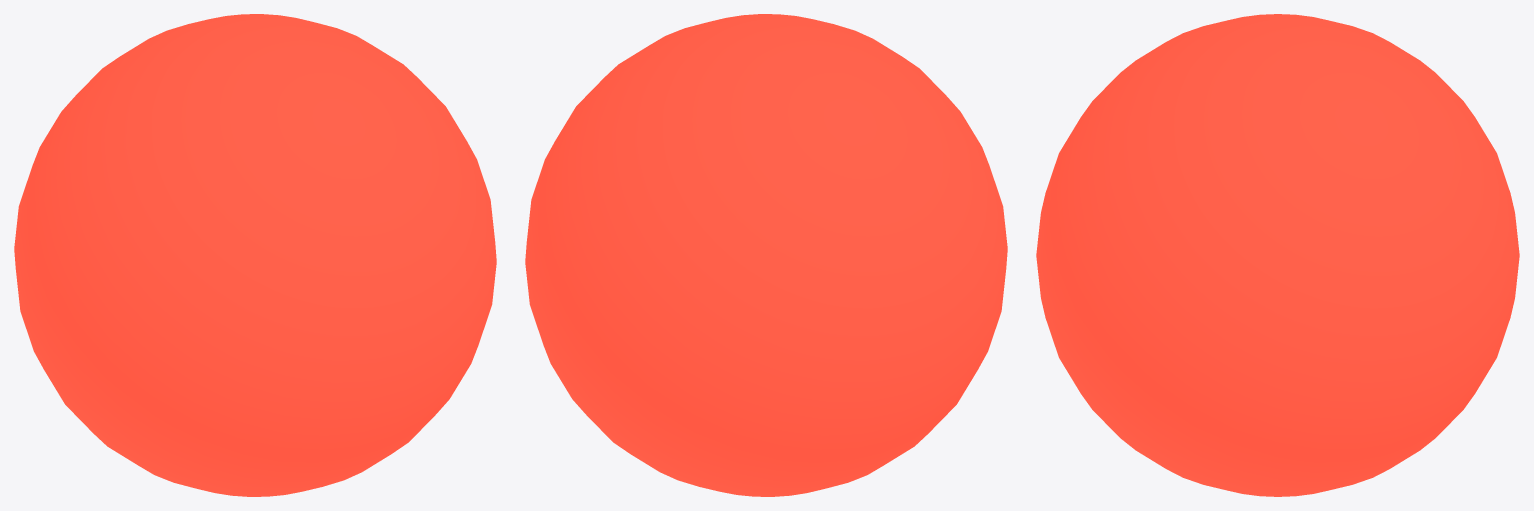
File: emissoes-de-co2.glb
The picture shows the model from 3 angles, left to right: view 1: azimuth 30°, elevation 25°; view 2: azimuth 150°, elevation 25°; view 3: azimuth 270°, elevation 25°; orthographic projection.
Visible parts, largest first — view 1: Sphere.020; view 2: Sphere.020; view 3: Sphere.020.
Part boxes in pixels (x1,y1,x2,y2): Sphere.020: (14, 14, 496, 496); Sphere.020: (525, 14, 1007, 496); Sphere.020: (1036, 14, 1519, 496).
Bounding box in the file's own units: 5.15 × 5.15 × 5.15.
